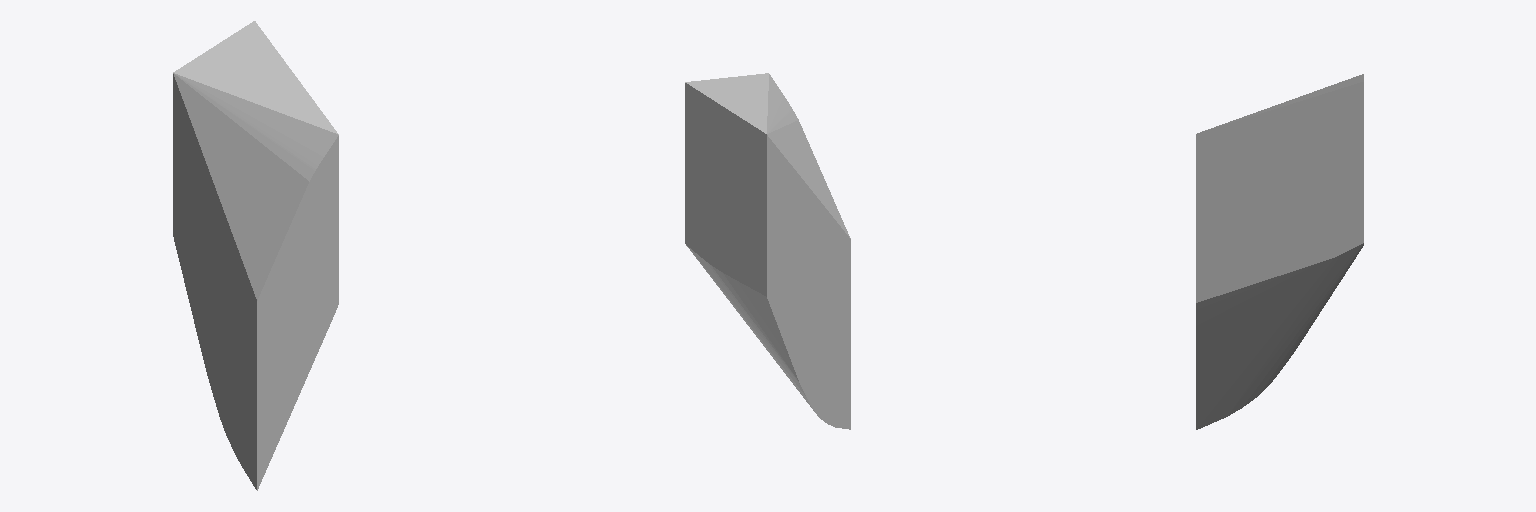
Rendered from Bowl_21_collision_8.obj.
The picture shows the model from 3 angles: view 1: azimuth 30°, elevation 25°; view 2: azimuth 150°, elevation 25°; view 3: azimuth 270°, elevation 25°; orthographic projection.
Bounding box in the file's own units: 0.0148 × 0.0672 × 0.0264.